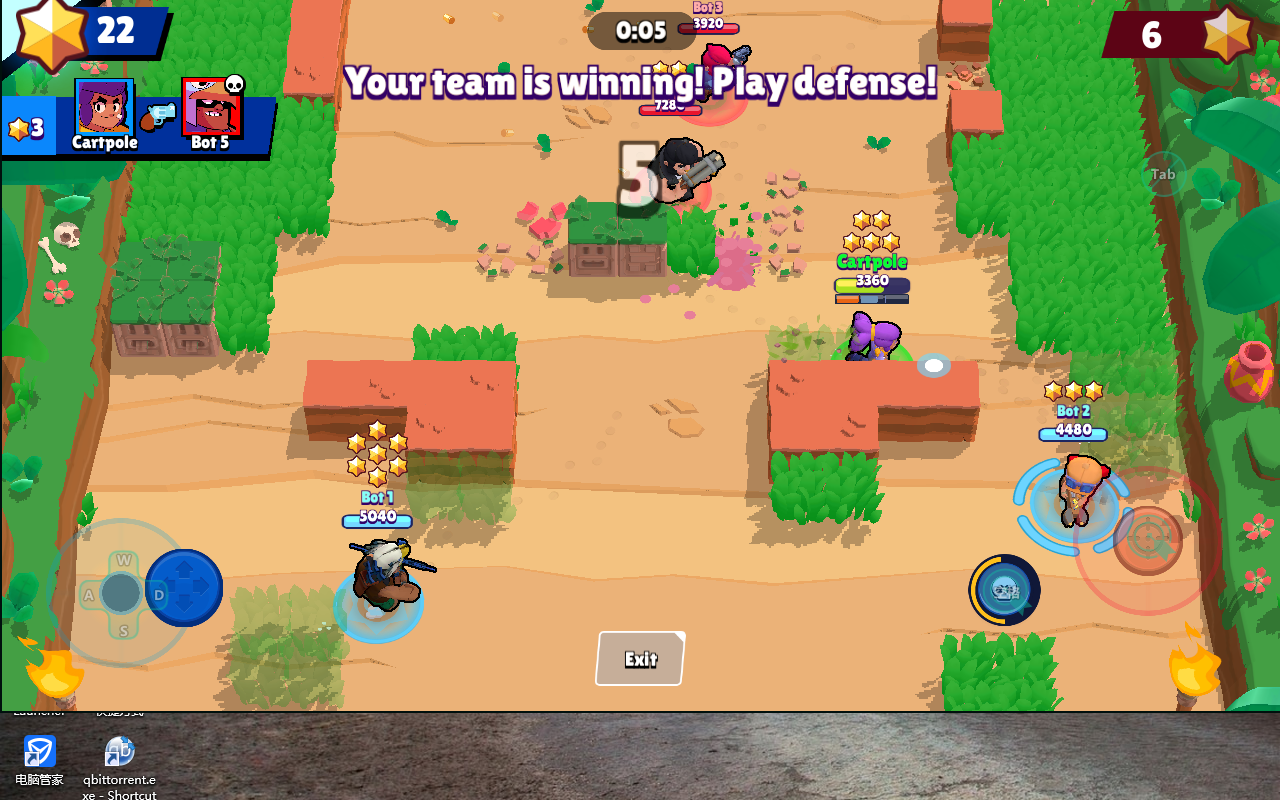current_player: (832, 336, 914, 394)
